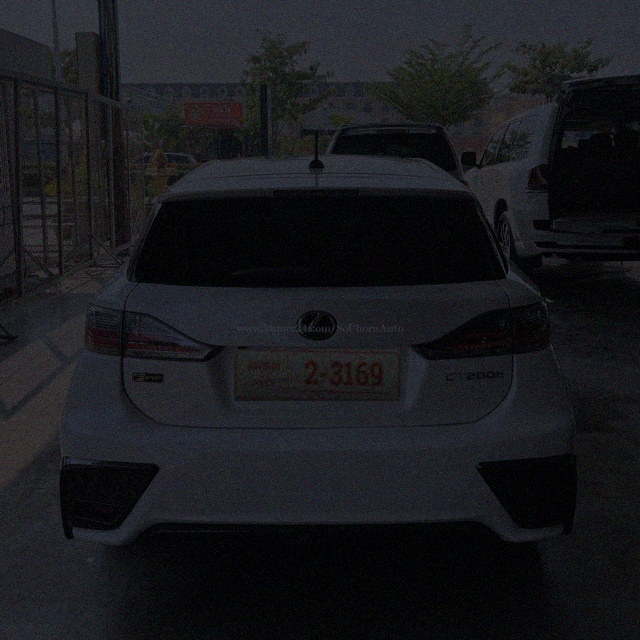Plate Number: (234, 349, 400, 401)
